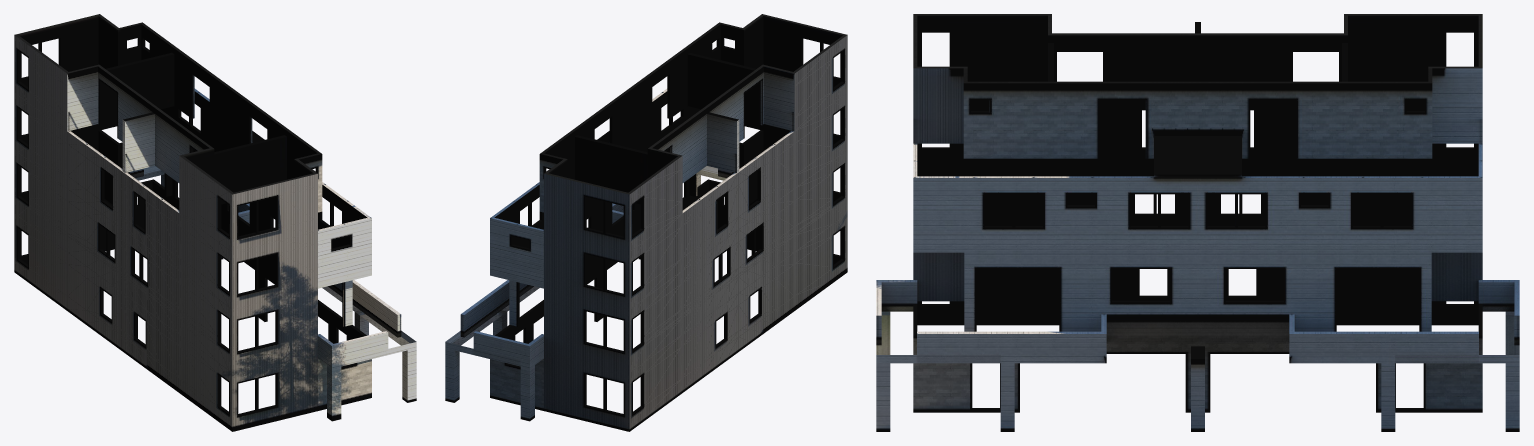
The picture shows the model from 3 angles, left to right: view 1: azimuth 30°, elevation 25°; view 2: azimuth 150°, elevation 25°; view 3: azimuth 270°, elevation 25°; orthographic projection. The views are drawn at different scales.
Parts seen in each view (by area): view 1: 001_walls; view 2: 001_walls; view 3: 001_walls.
Part boxes in pixels (left/top/right/bottom): 001_walls: left=14, top=14, right=416, bottom=431; 001_walls: left=445, top=14, right=847, bottom=431; 001_walls: left=876, top=14, right=1519, bottom=431.
Bounding box in the file's own units: 8.48 × 11.3 × 21.28.
1 material, 1 textured.
